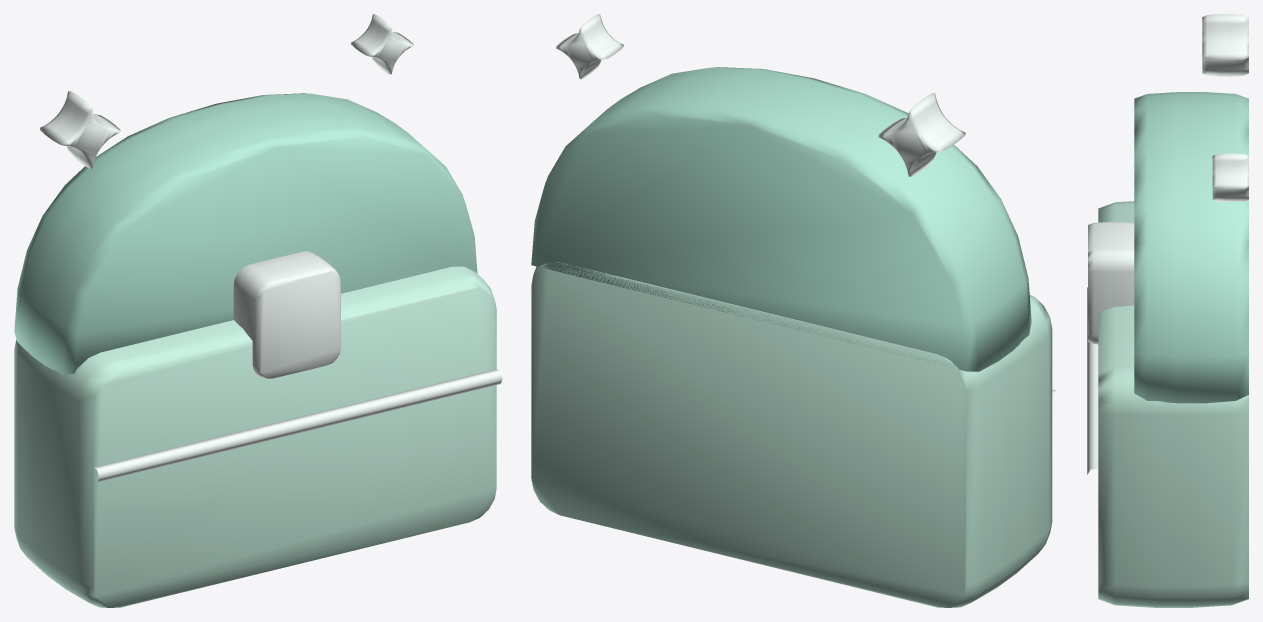
File: decor_4_mint.glb
3 renders of one model, left to right at view 1: azimuth 30°, elevation 25°; view 2: azimuth 150°, elevation 25°; view 3: azimuth 270°, elevation 25°, orthographic. The views are drawn at different scales.
Parts seen in each view (by area): view 1: decor_4_mint; view 2: decor_4_mint; view 3: decor_4_mint.
Part boxes in pixels (x1,y1,x2,y2): decor_4_mint: [14, 14, 502, 607]; decor_4_mint: [531, 14, 1056, 607]; decor_4_mint: [1087, 14, 1248, 607].
Size of the model in its own units: 9.35 by 9.92 by 3.29.
